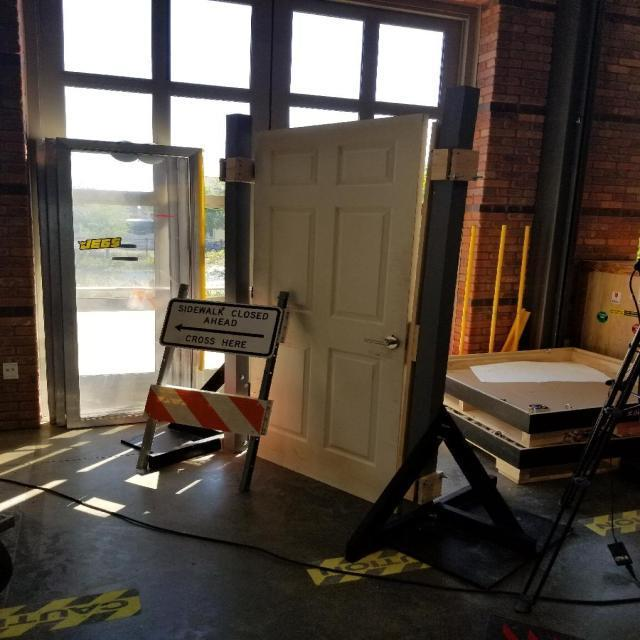door: (244, 104, 424, 511), (360, 332, 402, 354)
